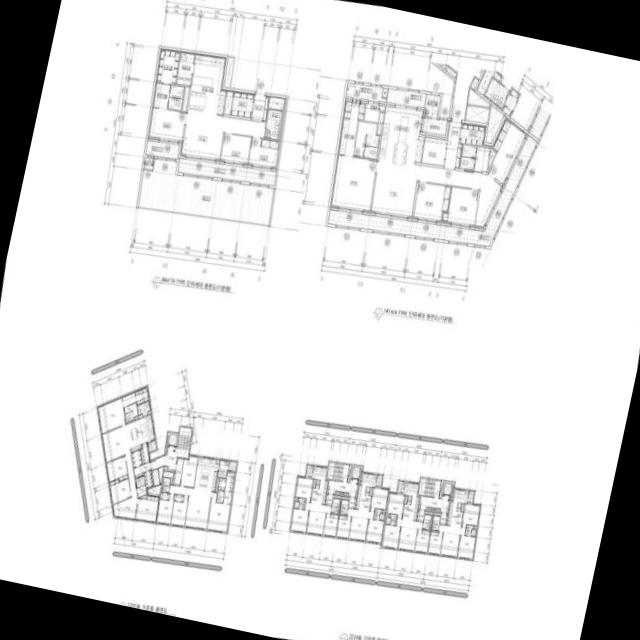background: (0, 0, 640, 640)
space_balconi: (327, 134, 536, 245), (145, 140, 275, 185), (345, 82, 385, 101), (386, 88, 425, 106), (147, 439, 156, 451), (227, 460, 236, 471)
space_bedroom: (487, 116, 526, 184), (330, 154, 376, 211), (413, 181, 450, 221), (441, 186, 478, 226), (147, 107, 185, 142), (97, 396, 125, 433), (247, 137, 279, 168), (219, 133, 250, 164), (207, 491, 230, 532), (421, 136, 446, 165), (135, 494, 159, 522), (179, 454, 197, 486), (108, 478, 130, 504), (105, 455, 127, 481), (156, 493, 174, 524), (170, 495, 188, 526), (365, 518, 384, 542), (369, 486, 388, 510), (461, 502, 480, 526), (381, 524, 400, 548), (289, 508, 308, 532), (294, 476, 312, 501), (386, 492, 404, 517), (457, 534, 475, 559), (427, 530, 442, 554), (322, 512, 337, 536), (414, 528, 429, 552), (336, 514, 351, 538), (159, 491, 169, 499), (173, 493, 183, 501)
space_dressroom: (155, 48, 179, 83), (337, 118, 357, 155), (342, 98, 365, 119), (134, 386, 148, 404), (224, 471, 234, 490), (217, 477, 225, 489)
space_elevator: (165, 432, 178, 446), (350, 465, 362, 479), (442, 481, 453, 495)
space_elevator_hall: (150, 415, 193, 470), (418, 480, 449, 512), (327, 463, 357, 496)
space_front: (443, 120, 461, 169), (459, 122, 485, 145), (251, 93, 269, 120), (172, 457, 183, 485), (133, 461, 150, 477), (143, 469, 153, 488), (131, 449, 141, 467), (348, 496, 356, 508), (439, 512, 447, 524), (416, 509, 424, 520), (324, 493, 332, 504)
space_kitchen: (378, 104, 424, 166), (187, 52, 226, 114), (125, 413, 154, 451), (193, 456, 218, 490), (355, 472, 376, 511), (447, 488, 468, 527), (402, 481, 419, 520), (310, 465, 327, 504)
space_living_room: (371, 161, 502, 227), (179, 110, 265, 160), (101, 424, 137, 519), (168, 484, 211, 529), (438, 524, 465, 556), (304, 502, 331, 534), (396, 518, 422, 550), (347, 508, 373, 540)
space_multipurpose_space: (176, 51, 194, 85), (364, 101, 385, 121)
space_other: (448, 64, 483, 119), (485, 104, 503, 142), (230, 90, 253, 116), (467, 87, 490, 106), (422, 116, 446, 134), (465, 104, 489, 122), (223, 56, 233, 87), (136, 400, 150, 416), (268, 95, 284, 109), (223, 90, 232, 114), (139, 442, 149, 463), (217, 459, 228, 477), (376, 111, 384, 133), (181, 86, 188, 110), (147, 483, 160, 494), (488, 148, 495, 168), (163, 470, 173, 483), (152, 468, 159, 485), (445, 66, 455, 77), (157, 466, 163, 483), (470, 77, 478, 89), (347, 464, 351, 481), (439, 480, 442, 497), (134, 413, 142, 419), (382, 87, 387, 96), (215, 477, 218, 491), (424, 510, 432, 514), (341, 495, 349, 499), (139, 494, 146, 498), (433, 511, 440, 515), (460, 503, 463, 511), (164, 446, 167, 454), (312, 479, 315, 487), (369, 487, 372, 495), (404, 495, 407, 503), (333, 494, 340, 497), (215, 458, 219, 463), (339, 491, 343, 494), (163, 466, 167, 469), (147, 410, 150, 414), (431, 507, 435, 510), (435, 508, 439, 511), (294, 496, 297, 500), (343, 492, 348, 494), (334, 491, 339, 493), (474, 525, 477, 528), (385, 513, 388, 516), (382, 509, 385, 512), (426, 507, 430, 509), (449, 496, 451, 498), (358, 480, 360, 482)
space_outdoor_room: (424, 93, 440, 117), (143, 157, 153, 169), (305, 464, 312, 477), (467, 490, 474, 502), (375, 474, 382, 486), (397, 480, 403, 493)
space_staircase: (418, 477, 435, 496), (326, 461, 343, 480), (182, 426, 191, 449)
space_toilet: (353, 121, 379, 158), (151, 82, 183, 110), (264, 109, 282, 139), (473, 146, 489, 171), (123, 402, 137, 422), (121, 391, 135, 406), (459, 156, 474, 169), (461, 144, 476, 157), (422, 514, 431, 529), (339, 499, 348, 514), (161, 477, 170, 491), (136, 484, 146, 496), (431, 515, 439, 530), (331, 497, 339, 512), (222, 490, 231, 503), (373, 508, 382, 519), (465, 524, 473, 535), (297, 497, 305, 508), (389, 513, 396, 524), (216, 489, 224, 496), (139, 475, 144, 485), (135, 477, 140, 487), (216, 495, 223, 502), (470, 528, 475, 535), (385, 517, 390, 524), (294, 500, 299, 507), (379, 512, 383, 519)
